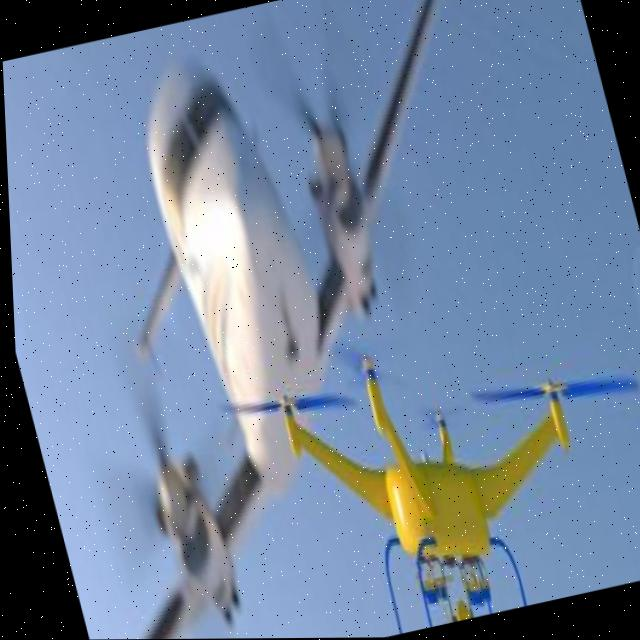drones: (185, 244, 640, 639)
